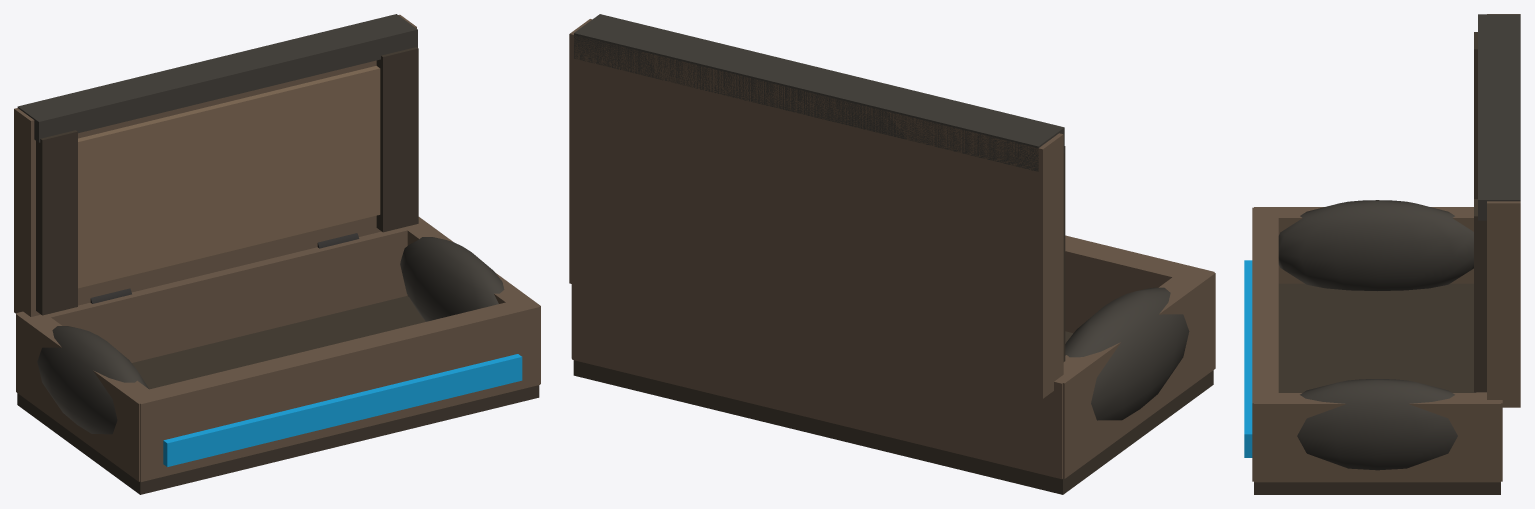
Rendered from CMU3DUtilityCMSurgicalCaseFilledCloudOpenStudy.glb.
3 views of the same model, side by side, from view 1: azimuth 30°, elevation 25°; view 2: azimuth 150°, elevation 25°; view 3: azimuth 270°, elevation 25° (orthographic). The views are drawn at different scales.
Visible parts, largest first — view 1: recessed tan inner lid, structural end wall -1, structural end wall 1, lid upper binding, upright open lid, cyan lower front medical band, seated interior floor lining, open lid edge binding -0.24, open lid edge binding 0.24, structural bottom pan, rounded side corner -0.257, structural side wall -1 (+2 smaller); view 2: upright open lid, structural end wall 1, lid upper binding, structural bottom pan, rounded side corner -0.257, structural side wall -1, structural end wall -1; view 3: seated interior floor lining, rounded side corner -0.257, structural side wall 1, rounded side corner 0.257, lid upper binding, upright open lid, structural end wall -1, structural bottom pan, open lid edge binding 0.24, cyan lower front medical band, structural side wall -1, open lid edge binding -0.24.
Part boxes in pixels (bbox=[...]): recessed tan inner lid: bbox=[78, 65, 380, 288]; structural end wall -1: bbox=[128, 302, 540, 481]; structural end wall 1: bbox=[16, 221, 421, 362]; lid upper binding: bbox=[17, 14, 417, 142]; upright open lid: bbox=[14, 14, 416, 316]; cyan lower front medical band: bbox=[163, 354, 522, 466]; seated interior floor lining: bbox=[132, 296, 425, 389]; open lid edge binding -0.24: bbox=[36, 130, 77, 315]; open lid edge binding 0.24: bbox=[376, 47, 418, 232]; structural bottom pan: bbox=[17, 385, 539, 494]; rounded side corner -0.257: bbox=[37, 326, 148, 434]; structural side wall -1: bbox=[16, 312, 157, 481]; upright open lid: bbox=[569, 19, 1063, 398]; structural end wall 1: bbox=[572, 284, 1077, 479]; lid upper binding: bbox=[574, 14, 1064, 171]; structural bottom pan: bbox=[573, 360, 1213, 494]; rounded side corner -0.257: bbox=[1065, 287, 1189, 420]; structural side wall -1: bbox=[1056, 266, 1215, 478]; structural end wall -1: bbox=[1065, 235, 1214, 333]; seated interior floor lining: bbox=[1278, 283, 1476, 392]; rounded side corner -0.257: bbox=[1278, 200, 1473, 290]; structural side wall 1: bbox=[1254, 393, 1500, 482]; rounded side corner 0.257: bbox=[1297, 379, 1457, 470]; lid upper binding: bbox=[1478, 14, 1520, 220]; upright open lid: bbox=[1487, 14, 1520, 407]; structural end wall -1: bbox=[1252, 207, 1278, 481]; structural bottom pan: bbox=[1254, 482, 1500, 494]; open lid edge binding 0.24: bbox=[1474, 199, 1486, 392]; cyan lower front medical band: bbox=[1244, 260, 1252, 457]; structural side wall -1: bbox=[1254, 207, 1473, 283]; open lid edge binding -0.24: bbox=[1474, 32, 1477, 198].
Bounding box in the file's own units: 0.594 × 0.389 × 0.336.
